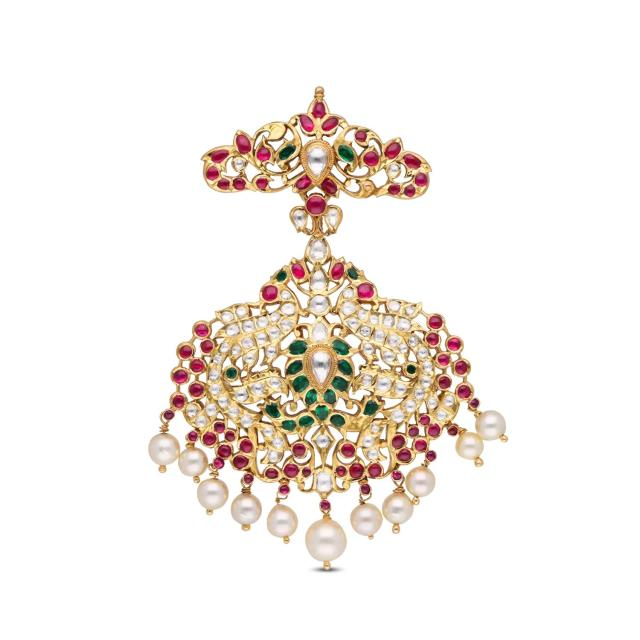missing gem: (272, 125, 284, 136), (364, 184, 374, 193)
